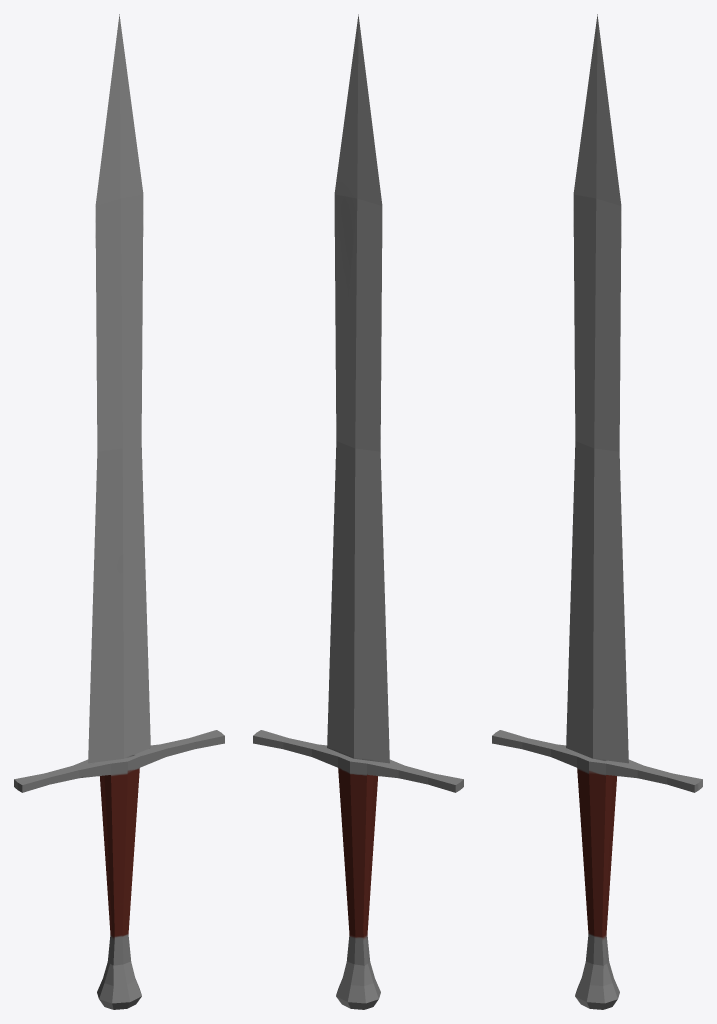
Rendered from medieval_sword_1.glb.
3 renders of one model, left to right at view 1: azimuth 30°, elevation 25°; view 2: azimuth 150°, elevation 25°; view 3: azimuth 330°, elevation 25°, orthographic.
Visible parts, largest first — view 1: Sphere; view 2: Sphere; view 3: Sphere.
Boxes of the visible parts, x1,y1,x2,y2 form: Sphere: [14, 14, 224, 1009]; Sphere: [253, 14, 463, 1009]; Sphere: [492, 14, 702, 1009].
Size of the model in its own units: 8.5 by 39.58 by 1.56.
1 material, 1 textured.
